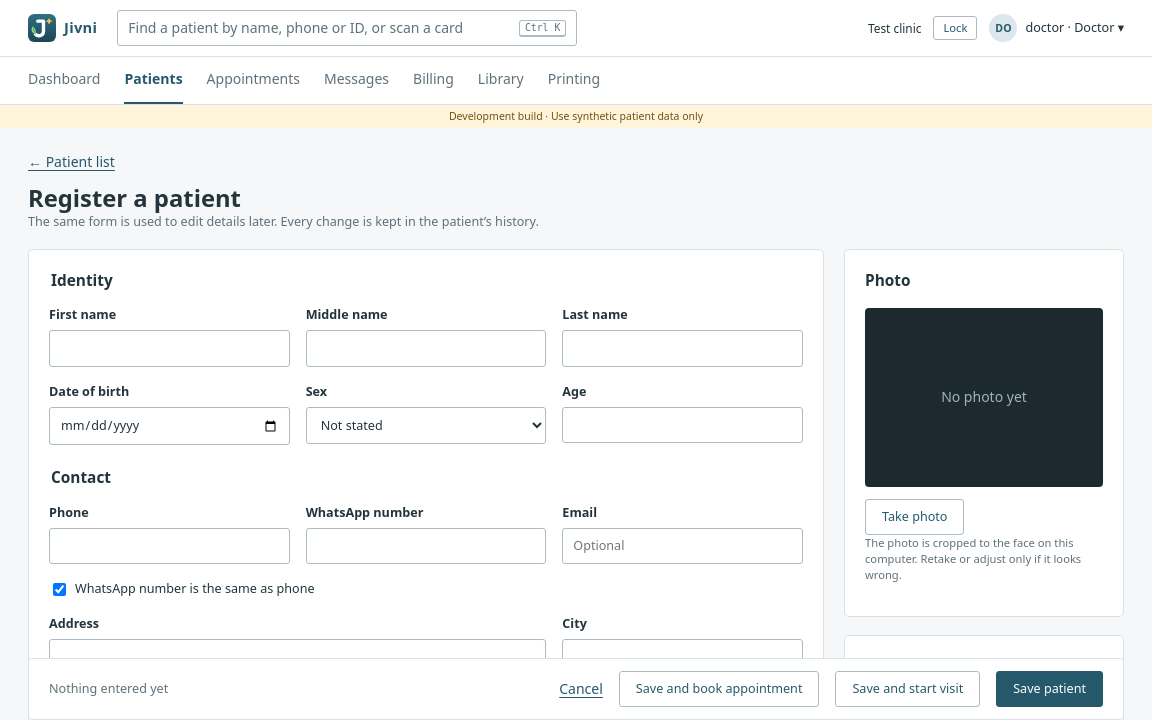
Test: registering and editing a patient › shows validation errors and does not navigate after a failed save
In the field labelled "First name": [169, 349] box [49,330,290,367], type "Synthetic"
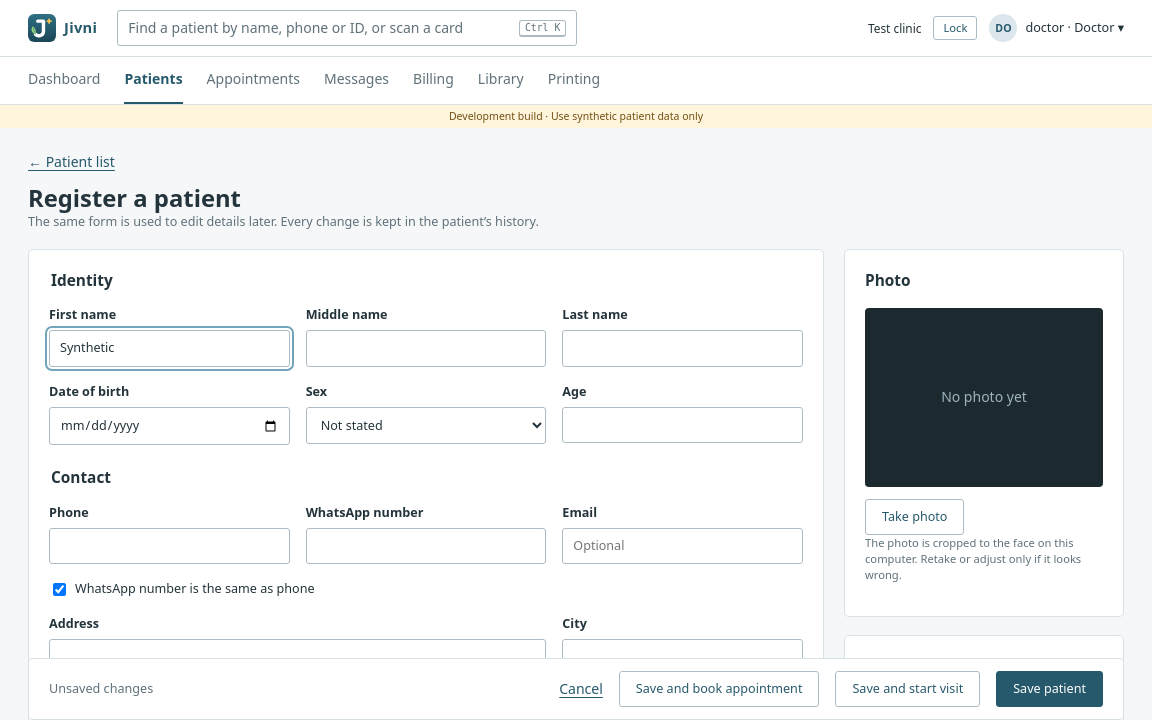
In the date field labelled "Date of birth": [169, 426] box [49,407,290,445], type "2000-01-01"
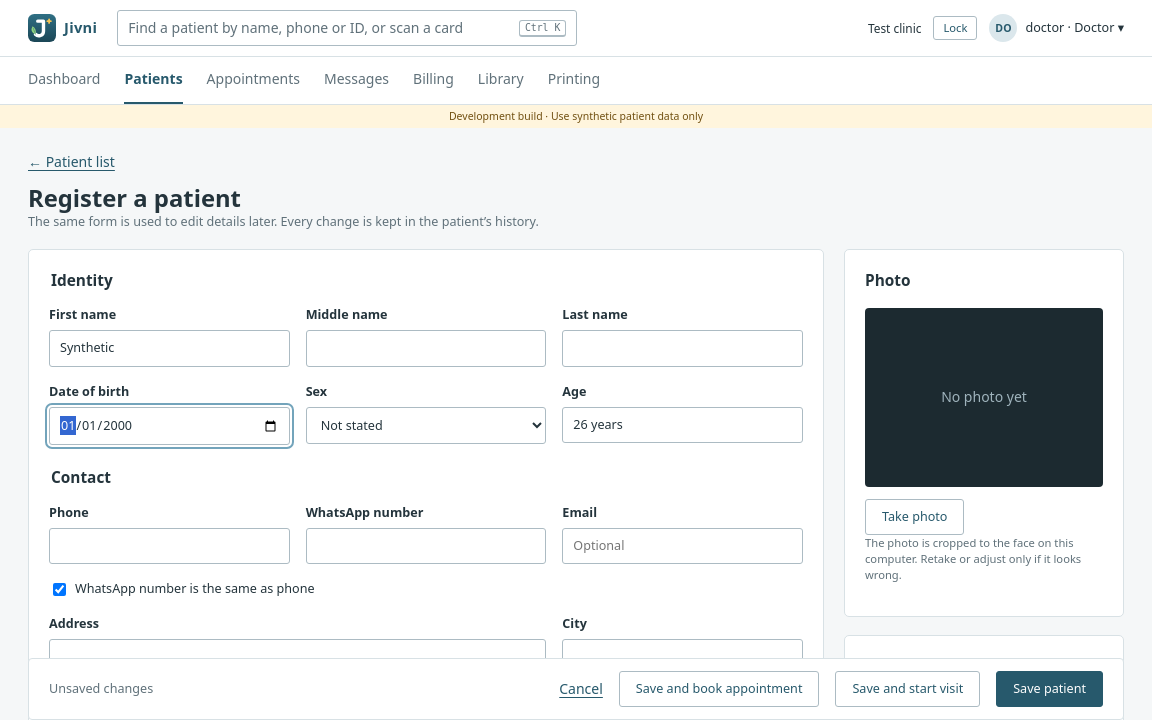
Click the button "Save patient": [1050, 689] box [996,671,1103,707]
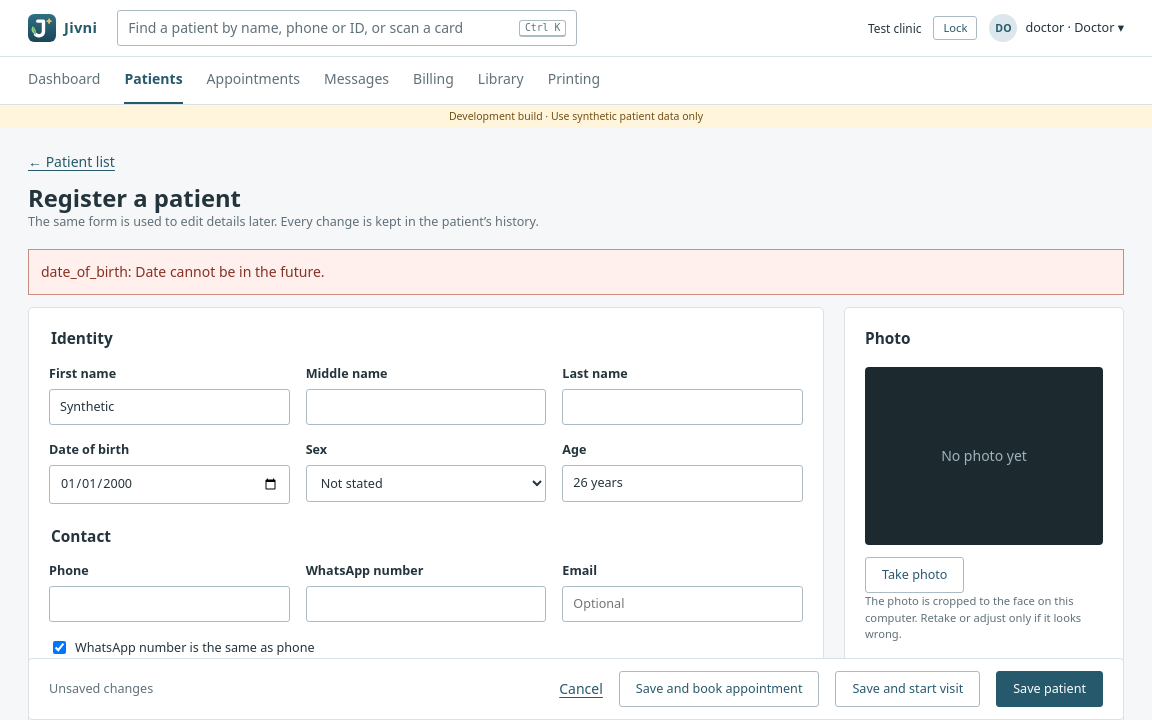
Check: the heading "Register a patient" is shown, box [28,182,241,214]
Check: the message shows "Date cannot be in the future.", box [41,262,325,281]
